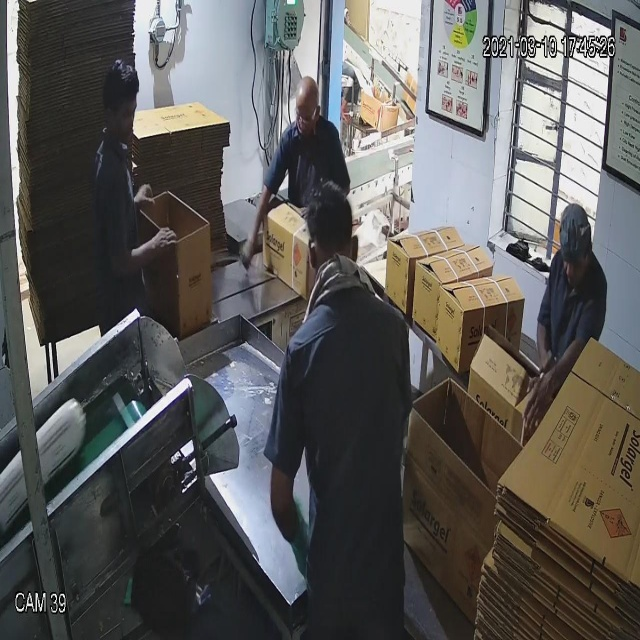Sin_guantes: (517, 348, 596, 447), (232, 172, 286, 279), (103, 228, 183, 278)
